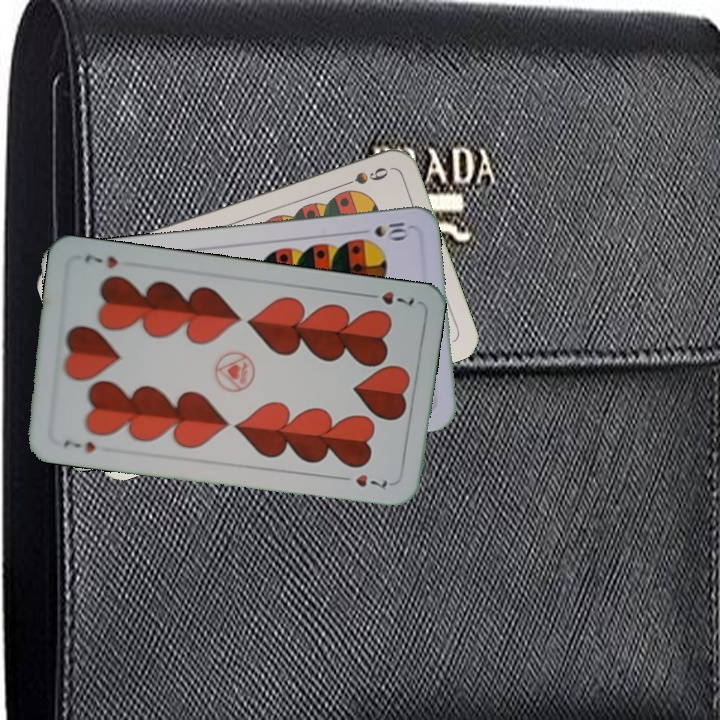H7: (360, 287, 417, 311), (60, 435, 98, 456)
S10: (354, 217, 413, 241)
S9: (334, 163, 391, 191)
